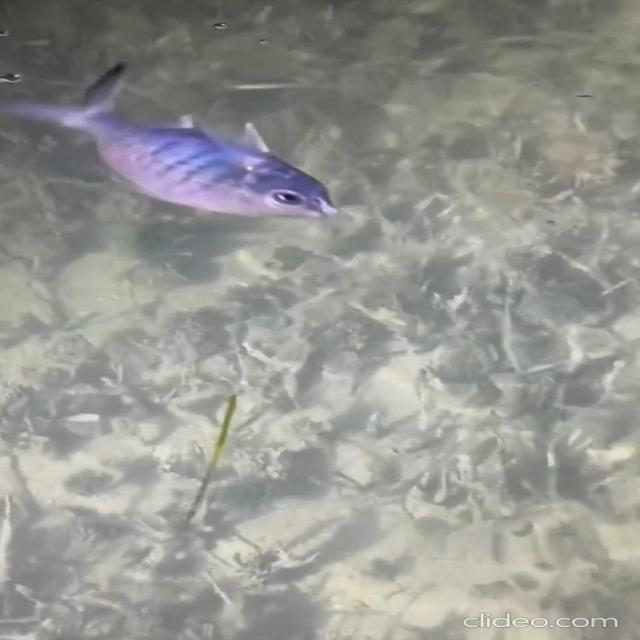fish: (7, 59, 362, 230)
